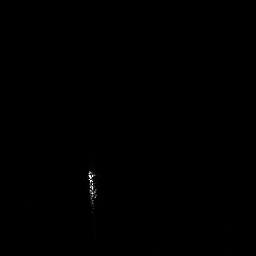ship: (86, 168, 98, 214)
